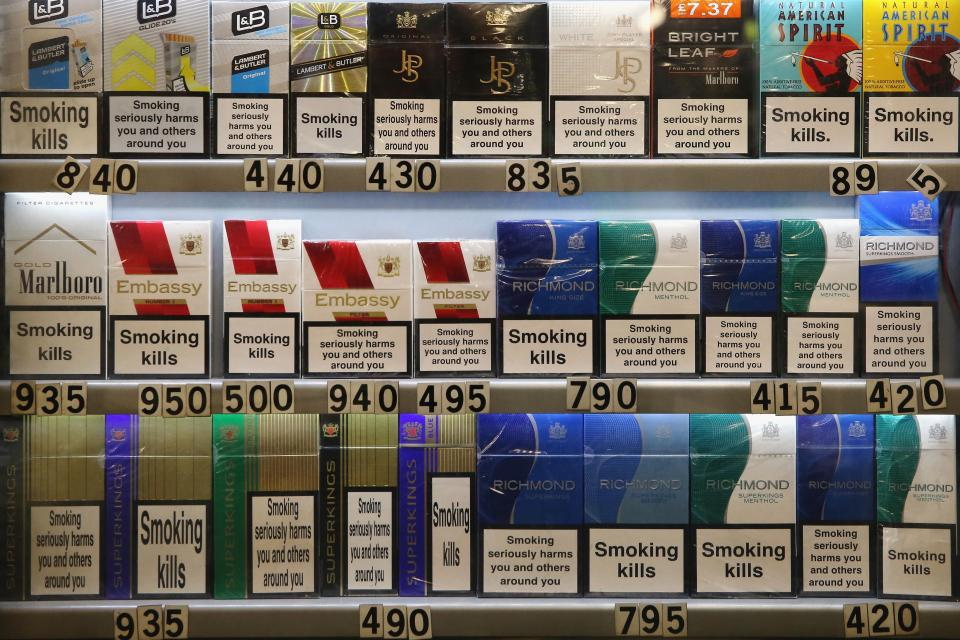marlboro_gold: (5, 192, 109, 379)
